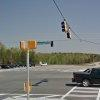Traffic light: (57, 13, 81, 48)
